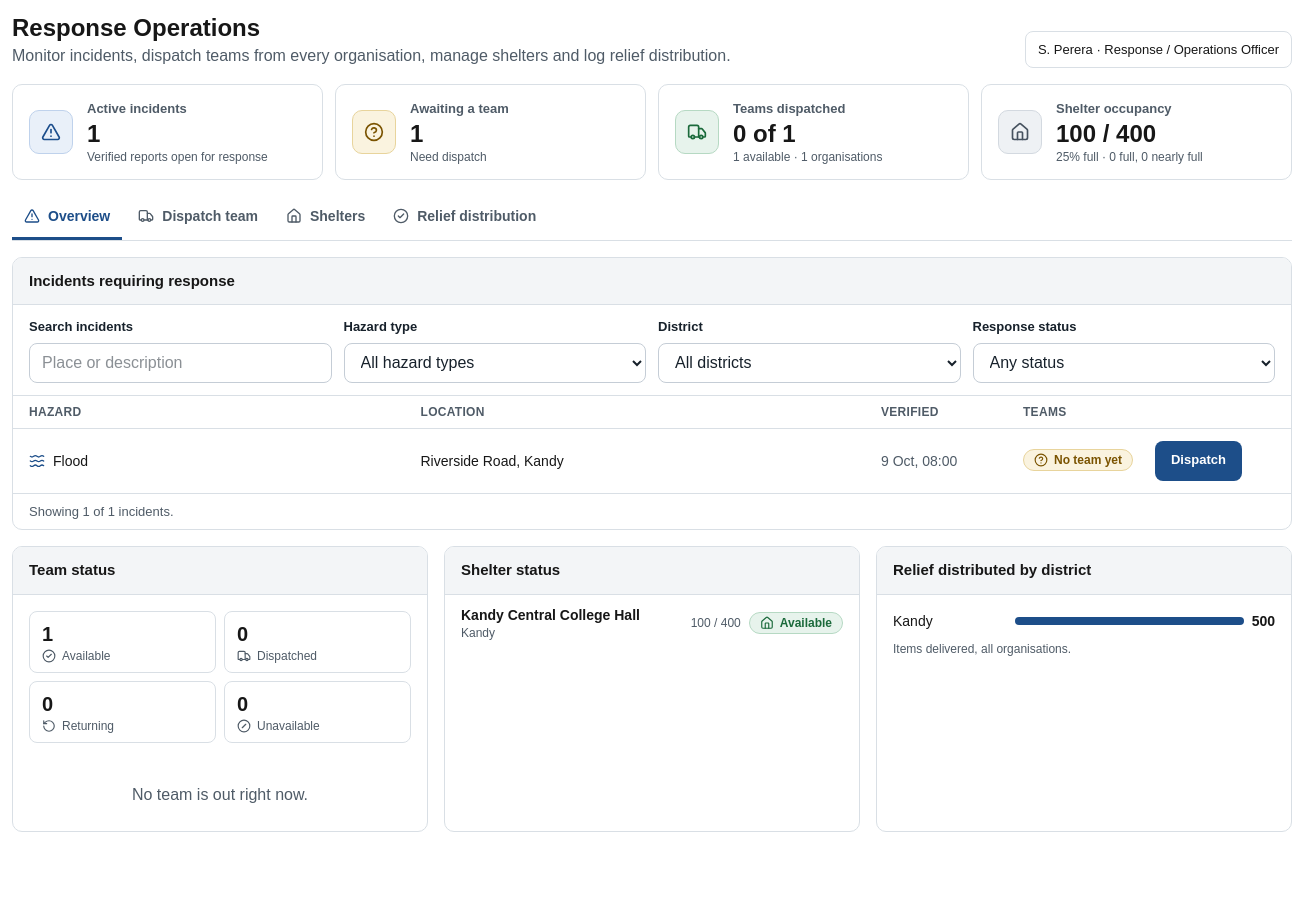
Test: Shelters tab › lists shelters with their status and free places
The image size is (1292, 912).
Check: the text "Active incidents" is shown, box [87,101,187,116]
Click the tab "Shelters" at (326, 218), box [274,196,377,240]
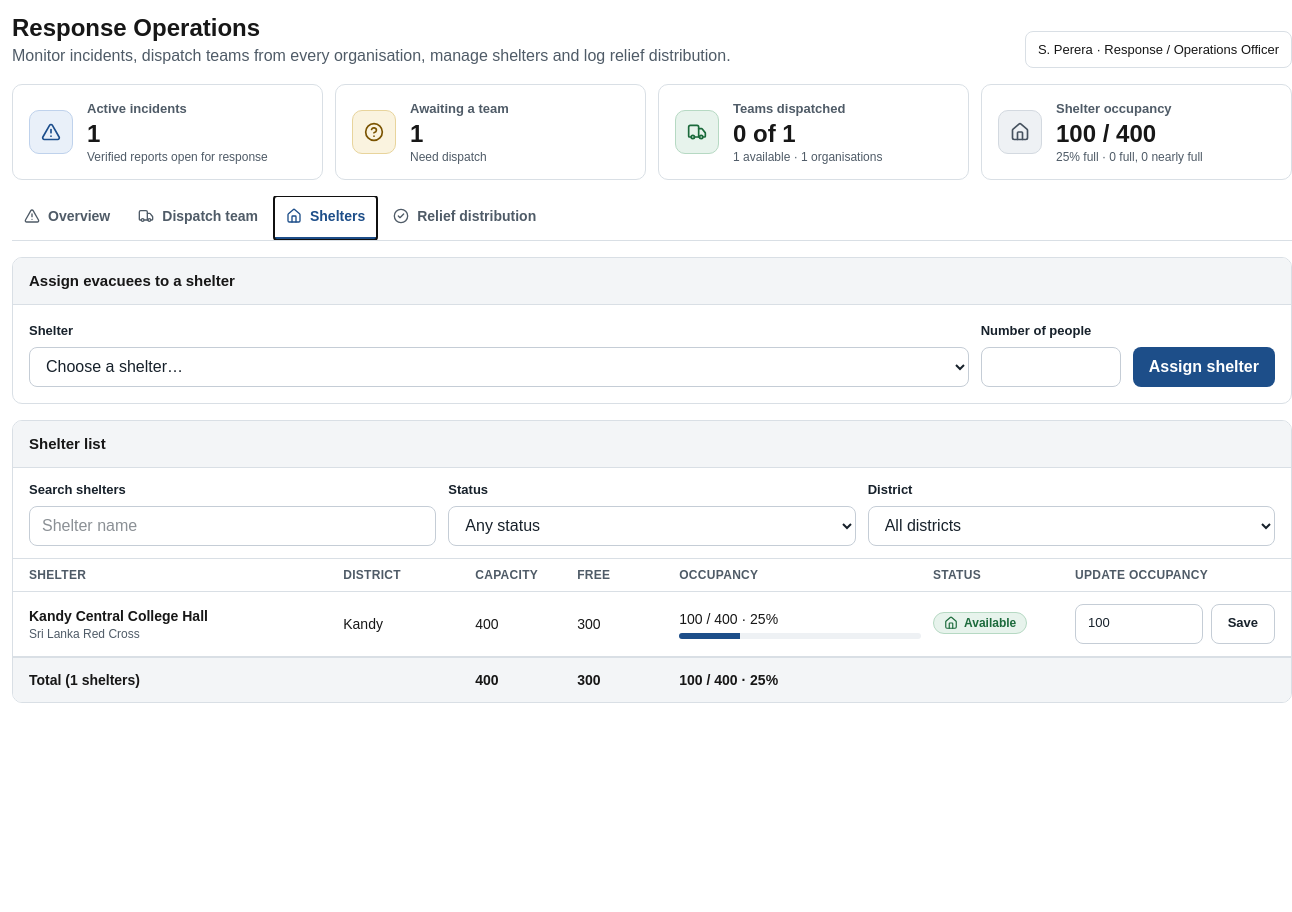
Check: the text "Kandy Central College Hall" is shown, box [29,608,208,624]
Check: the text "Total (1 shelters)" is shown, box [29,672,140,688]
